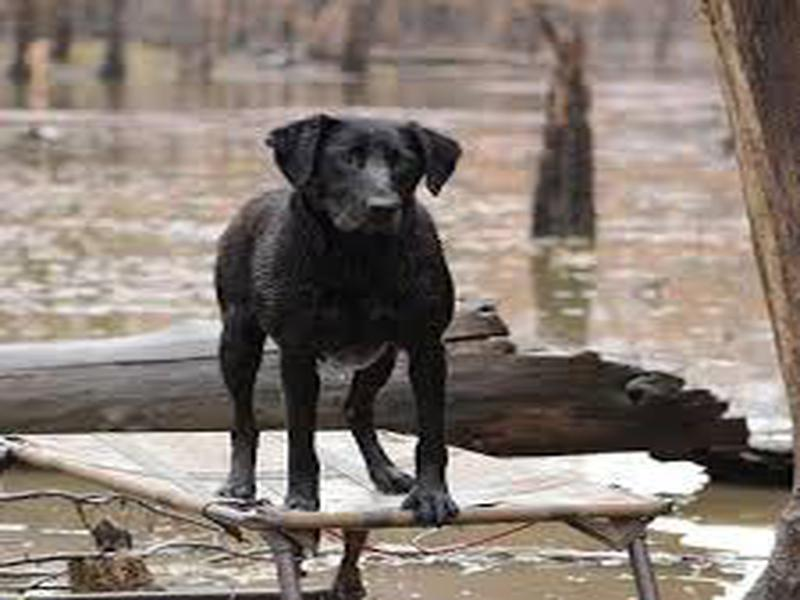dog_stand: (211, 106, 474, 546)
